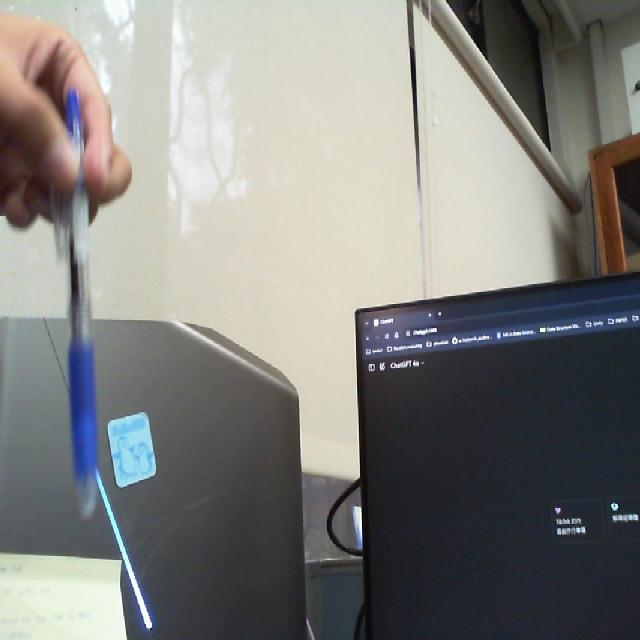Pen: (38, 60, 121, 541)
